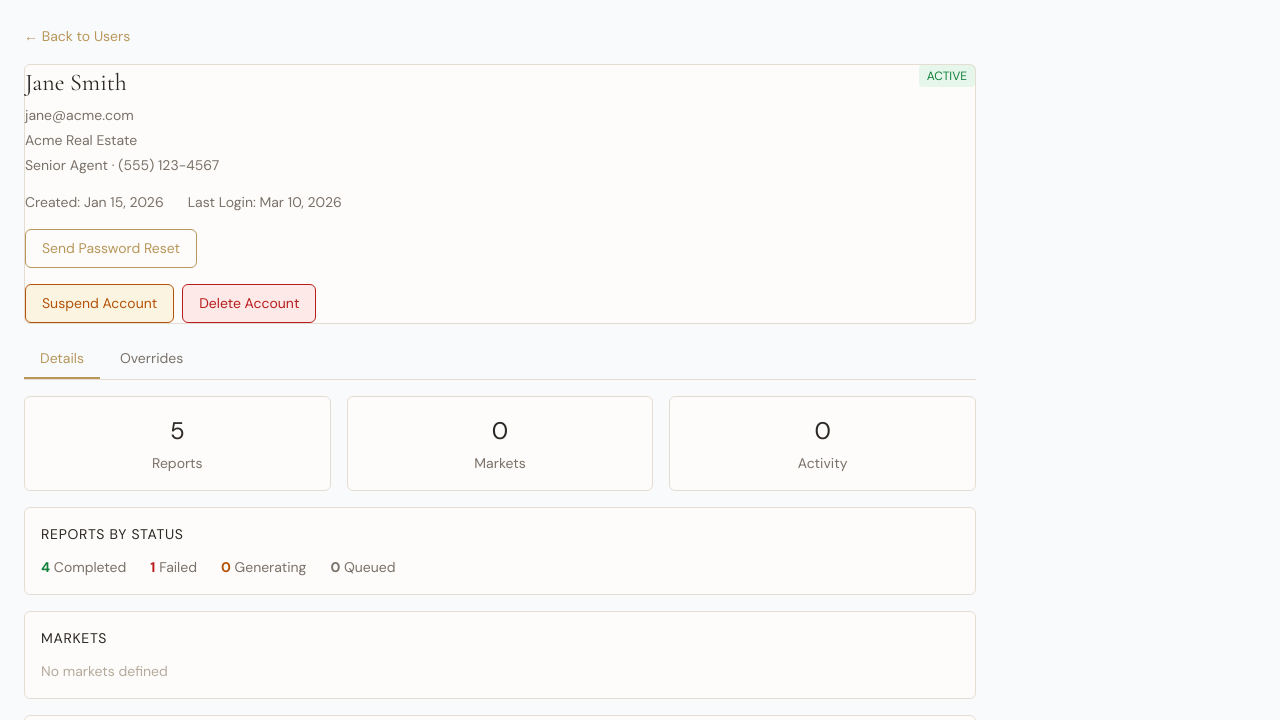
it: Delete Account › CMP-delete-05: should show confirmation dialog when Delete Account clicked
Click the button "Delete Account" at (249, 304), box [182,284,316,323]
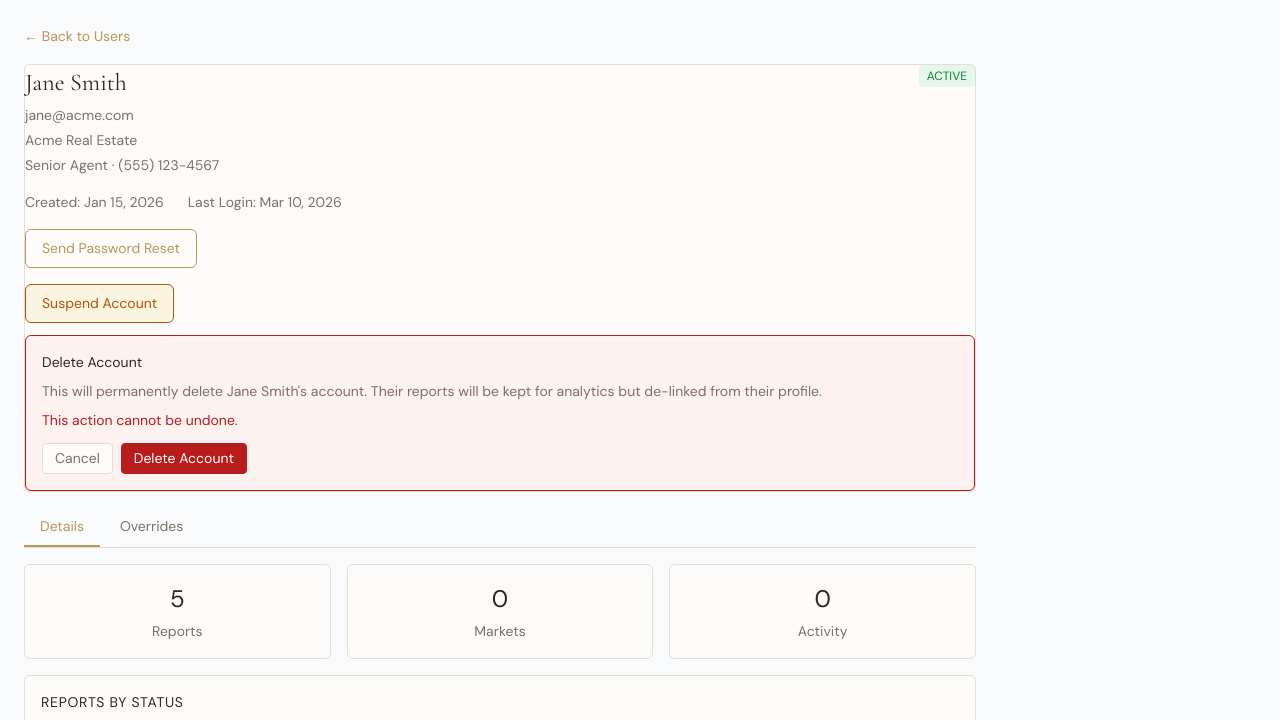
Now the text "permanently delete" is shown, box [42,382,227,400]
Now the button "Cancel" is shown, box [42,443,113,474]
